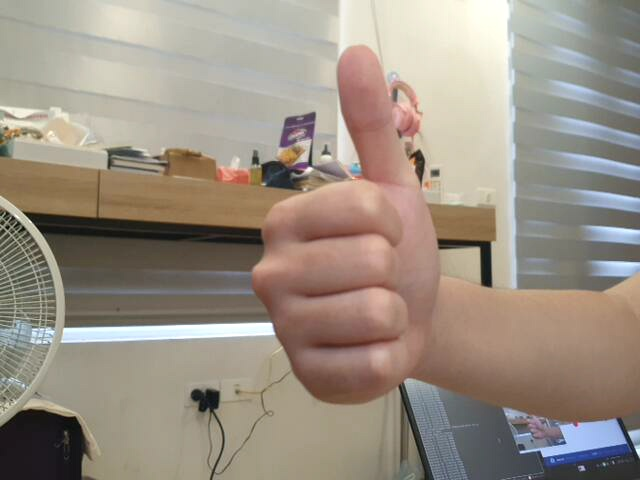ThumbsUp: (242, 40, 445, 410)
